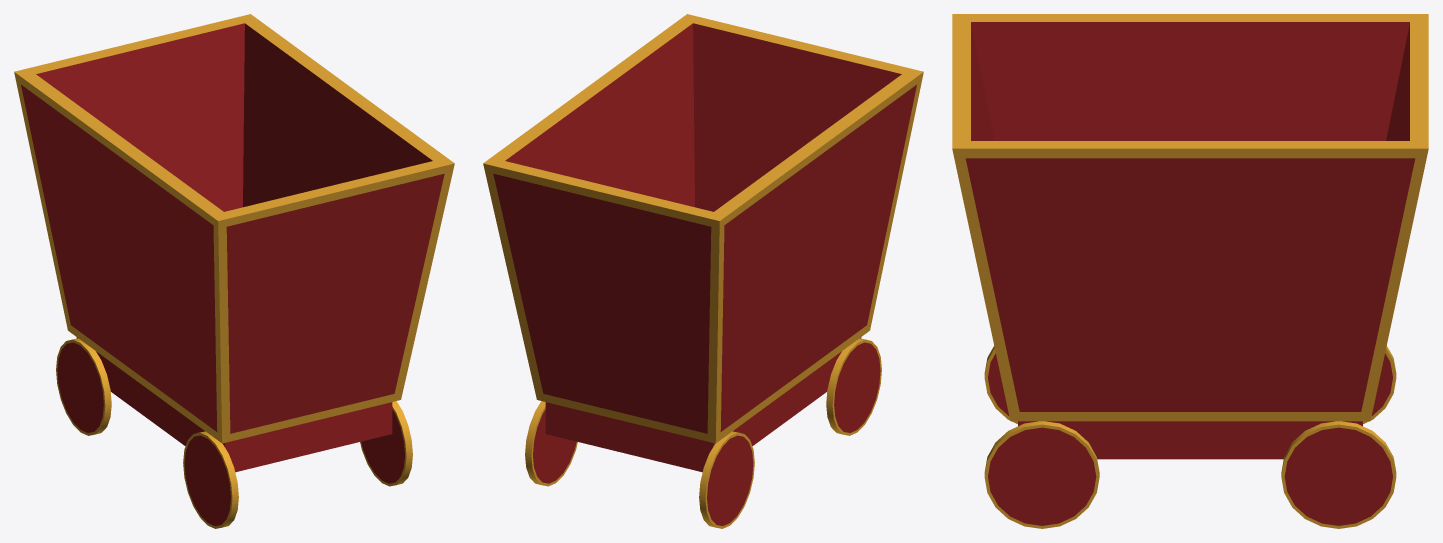
File: TrainWagon.fbx
3 renders of one model, left to right at view 1: azimuth 30°, elevation 25°; view 2: azimuth 150°, elevation 25°; view 3: azimuth 270°, elevation 25°, orthographic. The views are drawn at different scales.
Visible parts, largest first — view 1: wagon.01; view 2: wagon.01; view 3: wagon.01.
Part boxes in pixels (x1=…): wagon.01: x1=14, y1=14, x2=454, y2=528; wagon.01: x1=483, y1=14, x2=923, y2=528; wagon.01: x1=952, y1=14, x2=1428, y2=528.
Bounding box in the file's own units: 299 × 274 × 200.
